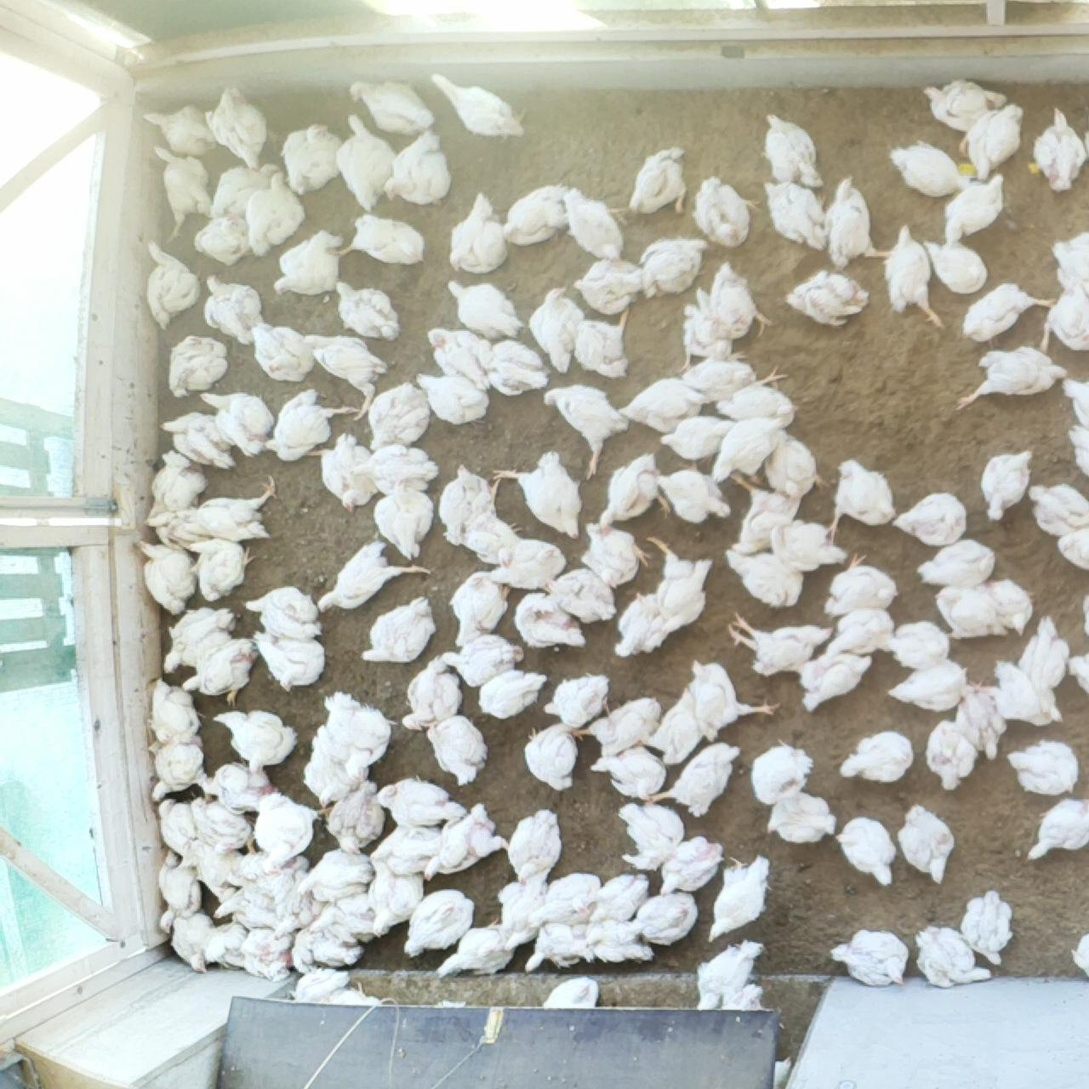chicken: (296, 329, 395, 424), (314, 538, 432, 614), (685, 655, 783, 742), (493, 449, 586, 540), (542, 385, 628, 482), (643, 531, 718, 635), (261, 386, 362, 463), (648, 740, 747, 818), (421, 799, 511, 884), (957, 343, 1069, 410), (725, 611, 837, 678), (323, 689, 401, 782), (175, 475, 281, 543), (882, 227, 949, 333), (247, 785, 334, 866), (432, 71, 529, 143), (288, 965, 383, 1038), (328, 112, 396, 209), (150, 143, 214, 245), (728, 472, 807, 554), (695, 260, 773, 343), (703, 852, 773, 943), (823, 175, 891, 268), (302, 434, 381, 514), (430, 916, 520, 986), (1013, 614, 1072, 720), (961, 281, 1058, 345), (826, 457, 895, 546), (299, 723, 371, 808), (634, 684, 708, 766), (434, 461, 503, 548), (599, 450, 667, 537), (325, 210, 426, 268), (711, 415, 792, 487), (158, 604, 237, 677), (195, 388, 275, 460), (784, 650, 875, 713), (617, 375, 712, 435), (400, 890, 482, 959), (691, 939, 766, 1014), (349, 76, 439, 138), (781, 266, 872, 327), (140, 239, 201, 330), (989, 657, 1064, 731), (175, 534, 255, 603), (574, 693, 663, 755), (245, 170, 307, 259), (606, 590, 687, 658), (959, 102, 1025, 185), (203, 86, 267, 171), (760, 178, 833, 252), (689, 174, 761, 249), (717, 365, 800, 430), (198, 270, 267, 348), (895, 804, 958, 889), (371, 860, 434, 945), (760, 110, 826, 191), (580, 518, 652, 592), (346, 443, 442, 498), (616, 799, 686, 874), (384, 131, 451, 209), (913, 923, 993, 988), (525, 286, 584, 374), (130, 536, 194, 617), (509, 588, 590, 652), (271, 230, 345, 300), (374, 774, 468, 829), (358, 600, 434, 668), (401, 653, 464, 735), (447, 273, 524, 340), (422, 710, 488, 788), (503, 807, 565, 890), (448, 568, 513, 647), (193, 761, 283, 818), (368, 487, 438, 560), (182, 636, 256, 705), (446, 192, 508, 274), (204, 160, 281, 226), (821, 553, 900, 617), (441, 632, 526, 691), (324, 780, 389, 857), (721, 545, 803, 606), (677, 349, 763, 407), (763, 427, 831, 500), (890, 490, 970, 552), (827, 927, 908, 988), (249, 627, 325, 692), (214, 709, 296, 769), (278, 124, 347, 195), (1034, 103, 1089, 192), (943, 173, 1009, 247), (570, 255, 652, 314), (428, 325, 498, 394), (241, 585, 326, 641), (561, 187, 622, 265), (158, 412, 236, 473), (491, 874, 551, 953), (890, 139, 971, 197), (749, 737, 813, 810), (502, 184, 575, 248), (833, 814, 896, 888), (959, 888, 1017, 968), (1020, 796, 1089, 863), (658, 834, 727, 901), (245, 846, 314, 913), (838, 729, 919, 786), (627, 145, 688, 220), (653, 468, 733, 525), (332, 277, 402, 342), (144, 450, 208, 521), (365, 382, 429, 453), (187, 793, 258, 857), (977, 446, 1036, 523), (489, 538, 566, 597), (147, 676, 208, 750), (934, 586, 1013, 643), (627, 887, 702, 947), (641, 235, 708, 302), (187, 838, 254, 905), (924, 81, 1012, 132), (454, 506, 526, 568), (679, 303, 746, 369), (154, 795, 215, 866), (412, 369, 489, 425), (370, 825, 447, 881), (764, 788, 838, 846), (955, 680, 1006, 764), (893, 658, 972, 712), (141, 102, 218, 157), (564, 315, 631, 378), (1007, 738, 1079, 796), (475, 340, 549, 396), (150, 735, 209, 805), (519, 721, 577, 791), (299, 848, 374, 902), (542, 673, 610, 732), (289, 924, 366, 976), (250, 321, 315, 382), (305, 890, 381, 942), (772, 518, 849, 569), (590, 748, 670, 797), (474, 669, 550, 720), (1025, 480, 1089, 540), (585, 869, 652, 926), (926, 719, 980, 789), (915, 538, 994, 585), (538, 868, 603, 925), (824, 608, 898, 658), (504, 891, 564, 952), (270, 876, 328, 939), (523, 920, 593, 972), (580, 916, 654, 965), (659, 416, 737, 462), (925, 239, 988, 295), (984, 573, 1038, 637), (884, 620, 954, 669), (194, 214, 256, 269), (1041, 282, 1089, 351), (241, 922, 295, 982), (215, 879, 279, 929), (713, 981, 770, 1036), (168, 907, 214, 975), (540, 975, 599, 1025), (144, 508, 212, 551), (150, 884, 204, 936), (154, 850, 200, 910), (1048, 227, 1089, 288), (203, 919, 248, 973), (741, 1047, 793, 1089), (1058, 374, 1089, 430), (1056, 525, 1089, 576), (1058, 422, 1089, 474), (1066, 648, 1089, 699), (1069, 929, 1089, 977), (1082, 594, 1089, 643)
